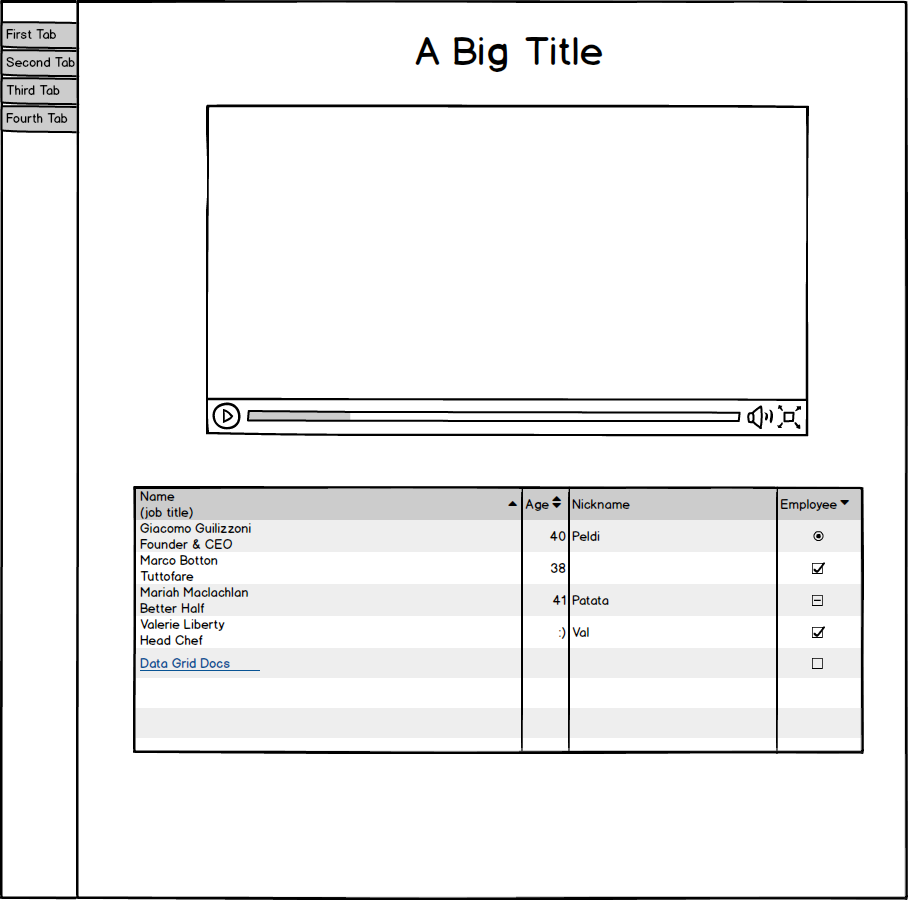h1: (408, 25, 606, 77)
sidebar: (1, 14, 87, 138)
table: (126, 477, 872, 759)
video: (204, 99, 815, 443)
